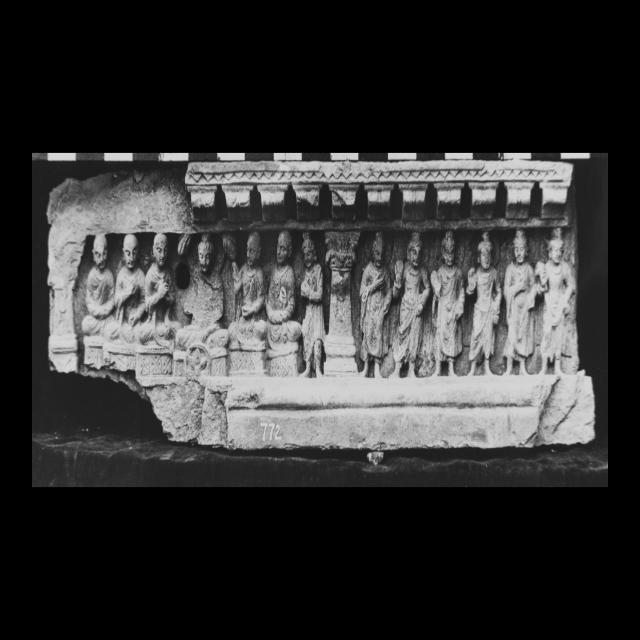buddha-sitting: (175, 238, 229, 349)
